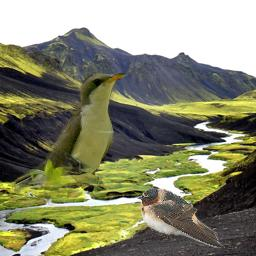Cuckoo: (14, 69, 129, 205)
Swallow: (137, 188, 225, 248)
